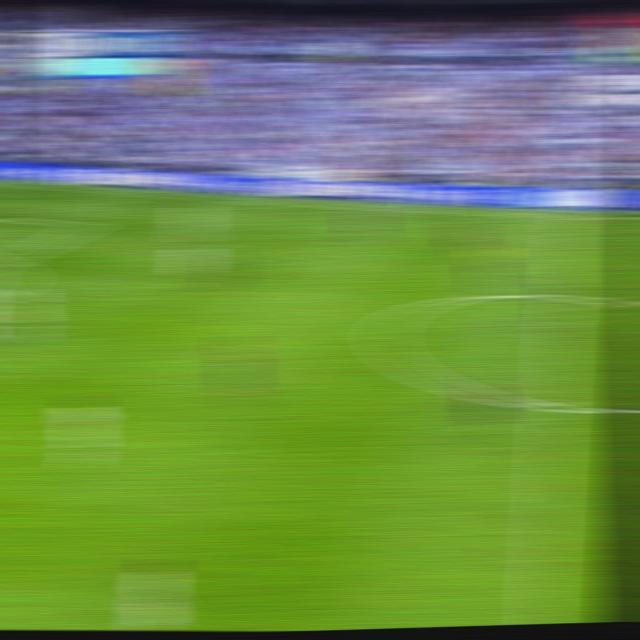bigarea_bottom_outter: (0, 252, 18, 268)
halfcircle_bottom: (536, 389, 570, 422)
halfcircle_top: (548, 286, 577, 307)
midline_top_intersection: (552, 209, 579, 223)
